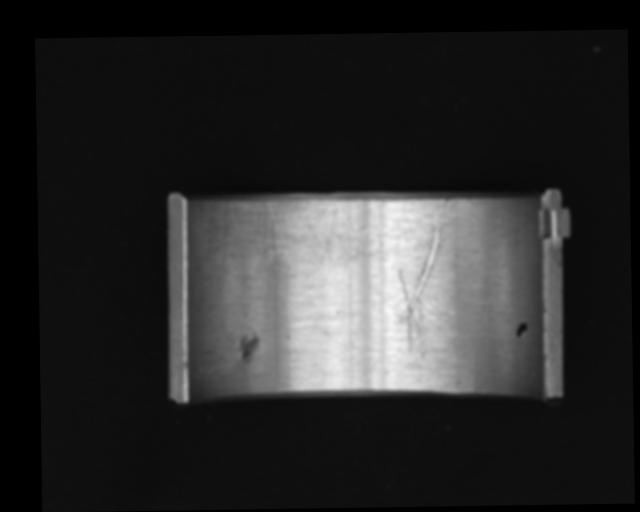blot: (514, 321, 529, 340)
bruise: (237, 333, 260, 362)
nick: (395, 198, 453, 359)
scratch: (236, 198, 355, 283)
